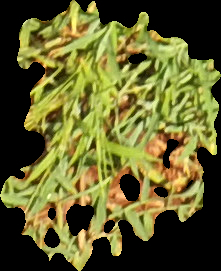grass: (1, 1, 220, 270)
